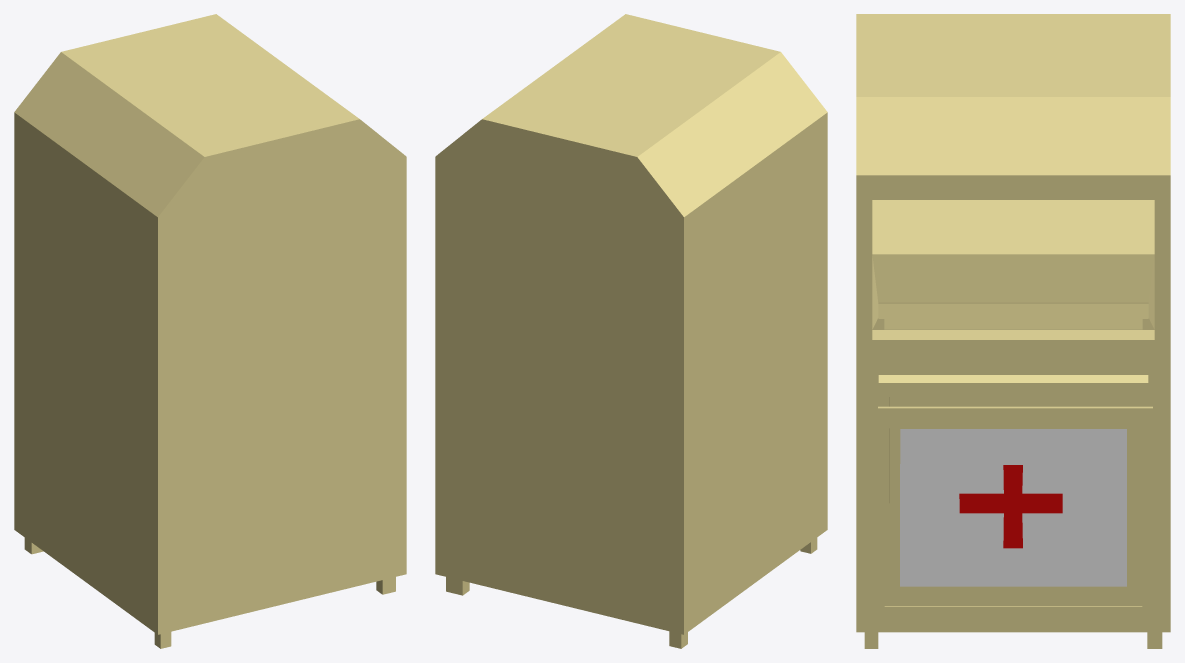
Rendered from Model_Pojemnik.fbx.
3 views of the same model, side by side, from view 1: azimuth 30°, elevation 25°; view 2: azimuth 150°, elevation 25°; view 3: azimuth 270°, elevation 25° (orthographic). The views are drawn at different scales.
Visible parts, largest first — view 1: Cube; view 2: Cube; view 3: Cube.
Part boxes in pixels (<box>): Cube: <box>14,14,406,648</box>; Cube: <box>435,14,827,648</box>; Cube: <box>856,14,1170,648</box>.
Bounding box in the file's own units: 120 × 223 × 123.
